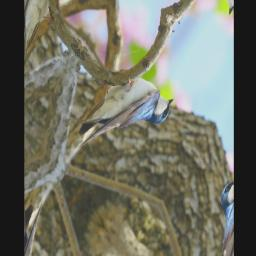Swallow: (66, 43, 177, 194)
